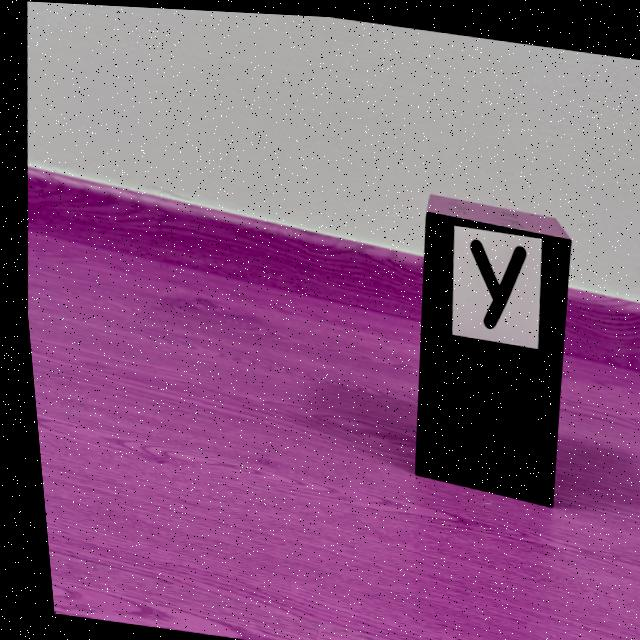Y: (466, 233, 521, 323)
